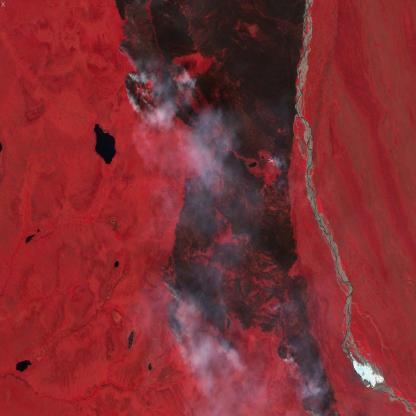fire: (112, 10, 192, 121), (151, 256, 199, 348), (298, 368, 353, 416), (206, 320, 248, 362), (272, 335, 296, 370)
